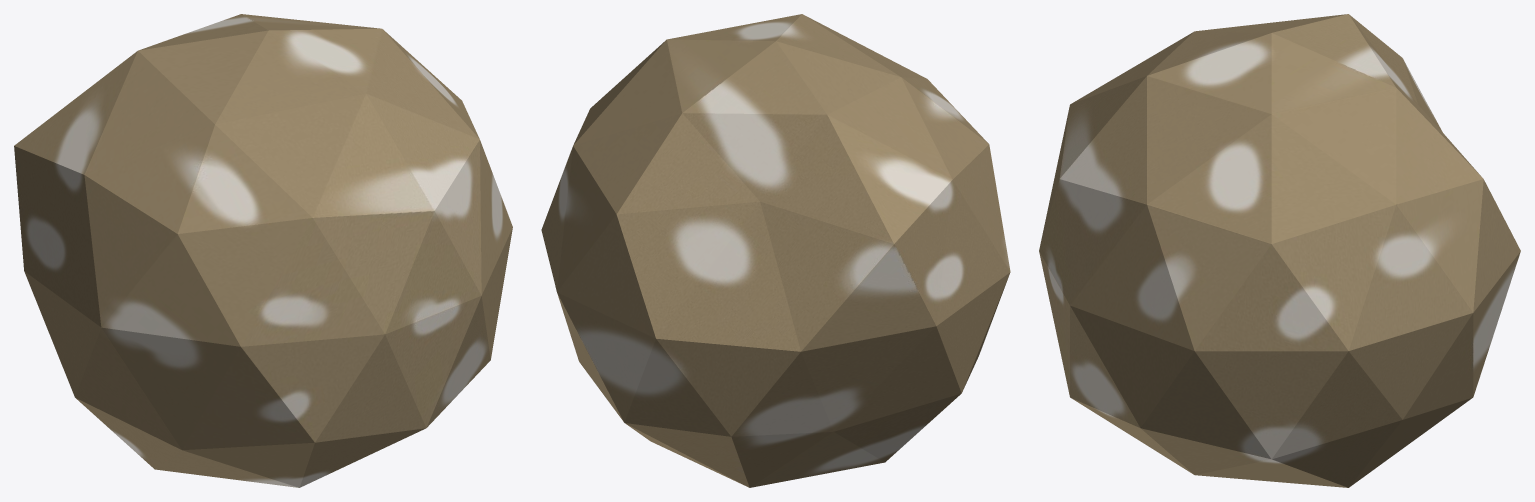
Rendered from splattersphere4.dae.
3 views of the same model, side by side, from view 1: azimuth 30°, elevation 25°; view 2: azimuth 150°, elevation 25°; view 3: azimuth 270°, elevation 25° (orthographic). The views are drawn at different scales.
Visible parts, largest first — view 1: splatter; view 2: splatter; view 3: splatter.
Boxes of the visible parts, x1=… form: splatter: x1=14, y1=14, x2=512, y2=487; splatter: x1=541, y1=14, x2=1010, y2=487; splatter: x1=1039, y1=14, x2=1520, y2=487.
Size of the model in its own units: 0.5001 by 0.5083 by 0.504.
1 material, 1 textured.
